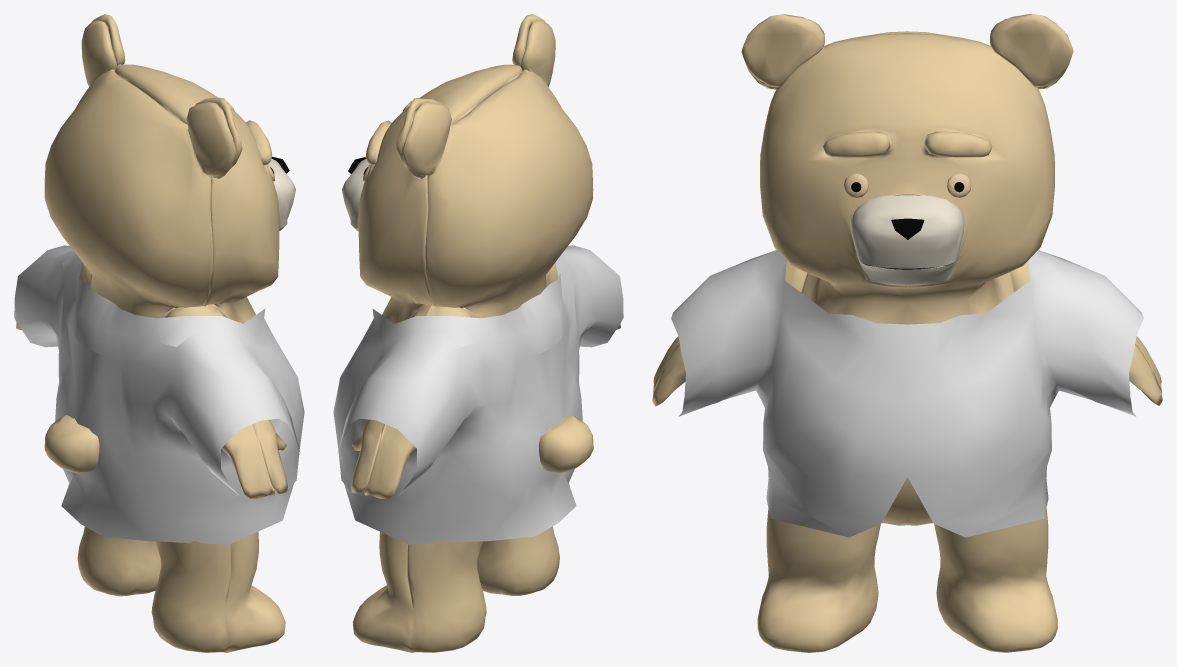
Rendered from cloth.glb.
3 views of the same model, side by side, from view 1: azimuth 30°, elevation 25°; view 2: azimuth 150°, elevation 25°; view 3: azimuth 270°, elevation 25° (orthographic). The views are drawn at different scales.
Visible parts, largest first — view 1: Cube.002_Material.005, Cloth, Cube.002_Material.006; view 2: Cube.002_Material.005, Cloth, Cube.002_Material.006; view 3: Cube.002_Material.005, Cloth, Cube.002_Material.006, Cube.002_Material.004.
Part boxes in pixels (x1=…): Cube.002_Material.005: x1=16, y1=14, x2=287, y2=652; Cloth: x1=14, y1=245, x2=304, y2=544; Cube.002_Material.006: x1=268, y1=159, x2=295, y2=230; Cube.002_Material.005: x1=351, y1=14, x2=620, y2=652; Cloth: x1=333, y1=245, x2=623, y2=544; Cube.002_Material.006: x1=342, y1=159, x2=369, y2=231; Cube.002_Material.005: x1=652, y1=14, x2=1162, y2=652; Cloth: x1=671, y1=250, x2=1143, y2=537; Cube.002_Material.006: x1=851, y1=195, x2=964, y2=285; Cube.002_Material.004: x1=844, y1=173, x2=971, y2=198.
Bounding box in the file's own units: 4.46 × 9.89 × 7.57.
